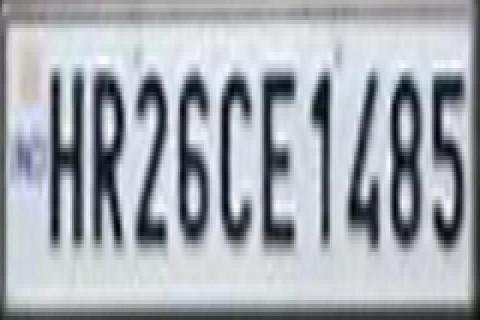LicensePlate: (3, 4, 479, 318)
